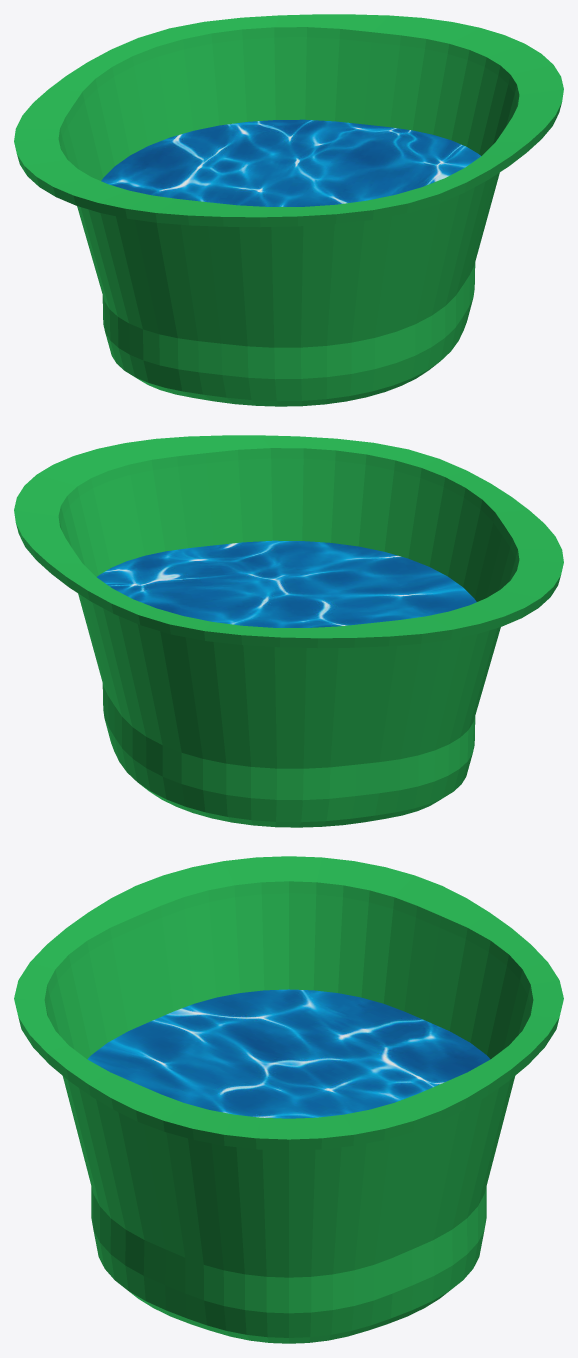
Rendered from mopBucket1.fbx.
The picture shows the model from 3 angles, top to bottom: view 1: azimuth 30°, elevation 25°; view 2: azimuth 150°, elevation 25°; view 3: azimuth 270°, elevation 25°; orthographic projection. The views are drawn at different scales.
Parts seen in each view (by area): view 1: MopBucket1, WaterLevel; view 2: MopBucket1, WaterLevel; view 3: MopBucket1, WaterLevel.
Part boxes in pixels (left/top/right/bottom): MopBucket1: left=14, top=14, right=563, bottom=406; WaterLevel: left=101, top=119, right=480, bottom=206; MopBucket1: left=14, top=435, right=563, bottom=827; WaterLevel: left=97, top=540, right=476, bottom=627; MopBucket1: left=14, top=856, right=563, bottom=1343; WaterLevel: left=87, top=989, right=490, bottom=1118.
Size of the model in its own units: 287 by 123 by 235.
Materials: 2 (2 with a texture image).
